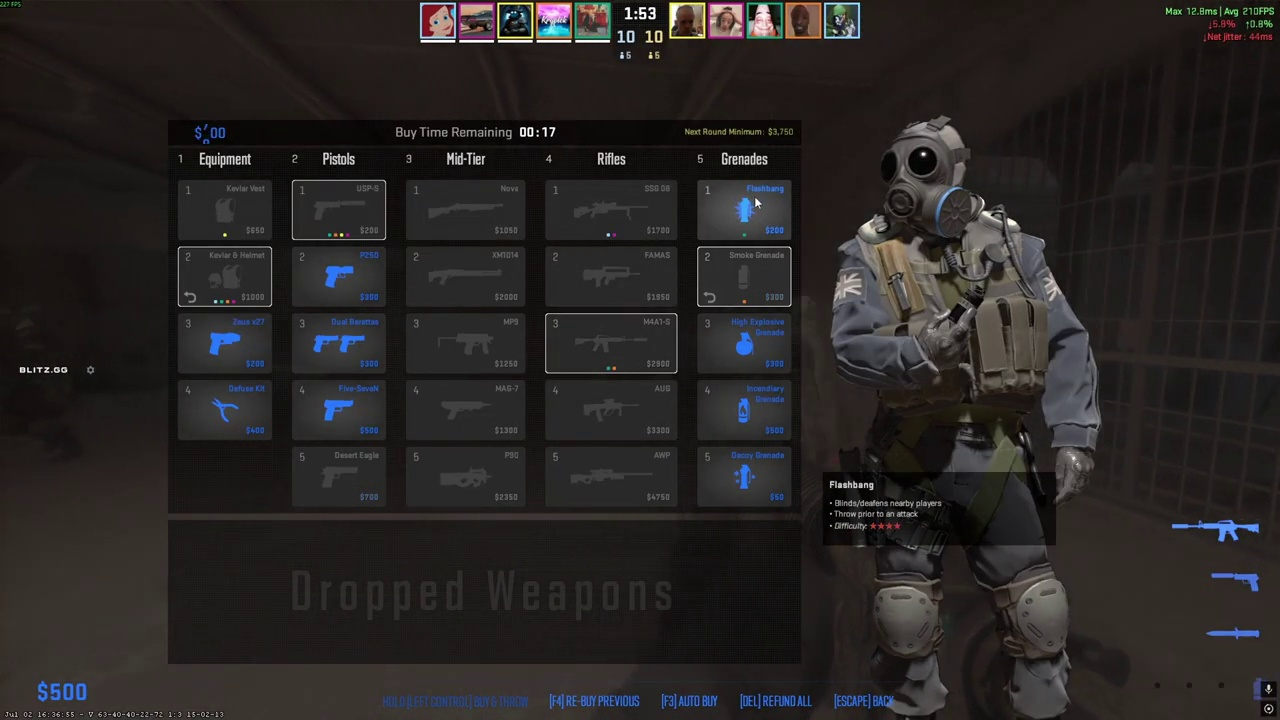CT: (855, 122, 1077, 720)
